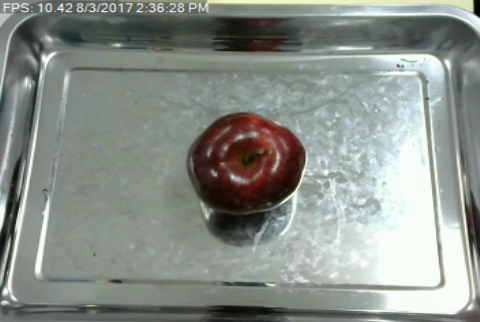Apple: (186, 108, 308, 218)
